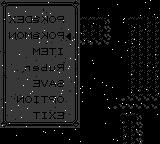no-caminable: (112, 18, 160, 108), (80, 18, 111, 45), (129, 113, 143, 143), (123, 117, 131, 143)
seleccionado: (6, 31, 73, 40)
texto: (2, 0, 81, 128)
